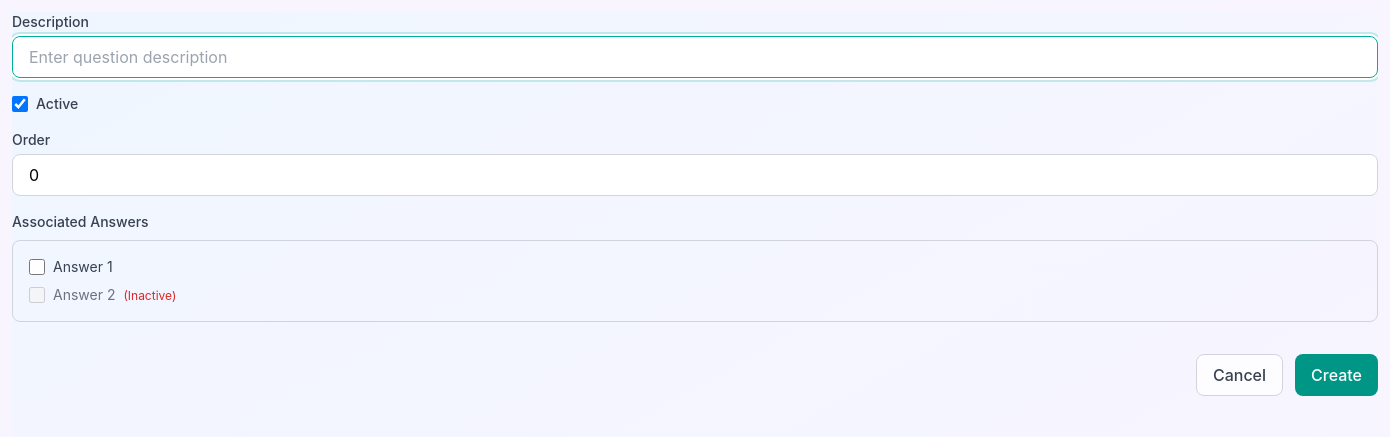
Test: QuestionForm › shows error when order already exists
Type "New Question" into the field with placeholder "Enter question description" at (695, 57), box [12,36,1378,78]
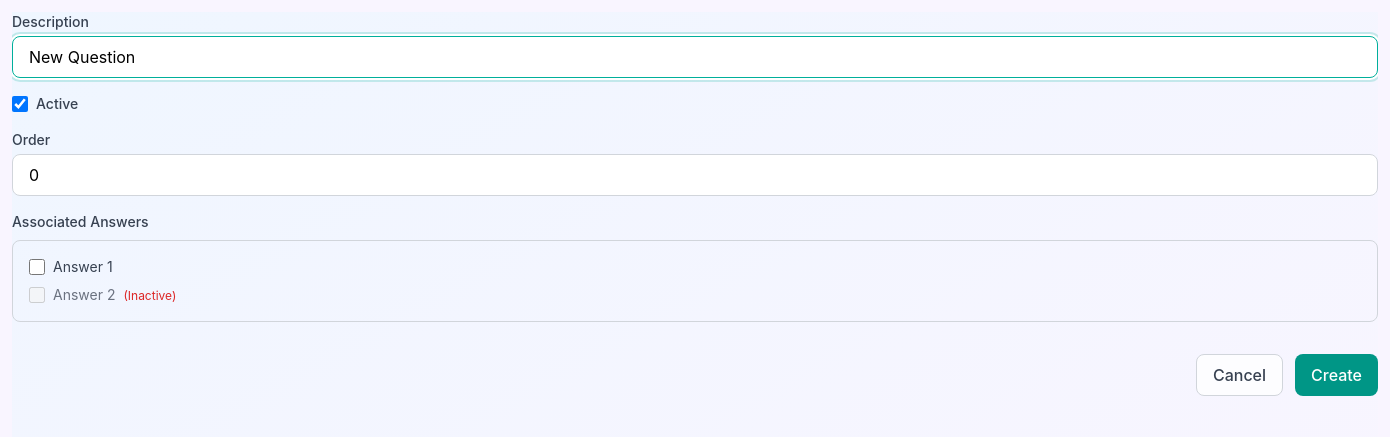
Replace the text in the number field labelled "Order" with "1" at (695, 175), box [12,154,1378,196]
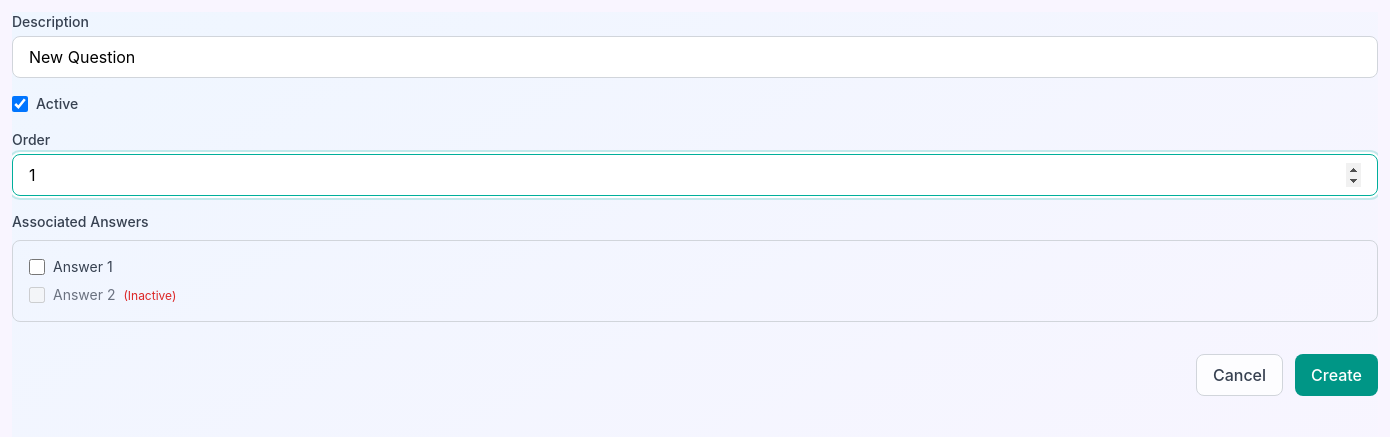
Click the button "Create" at (1336, 375), box [1295,354,1378,396]
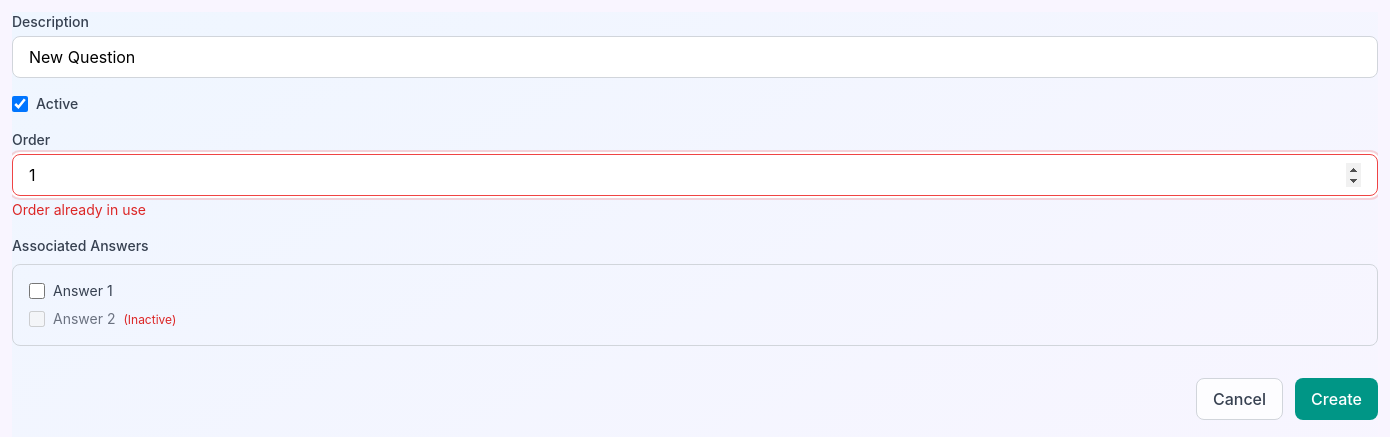
Now the message reads "Order already in use", box [12,201,146,218]
